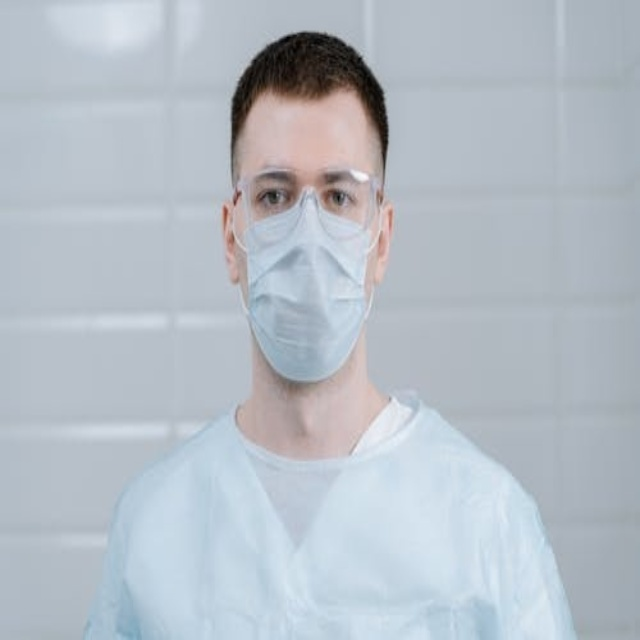Gafas: (234, 170, 383, 242)
Mascara: (235, 177, 379, 379)
